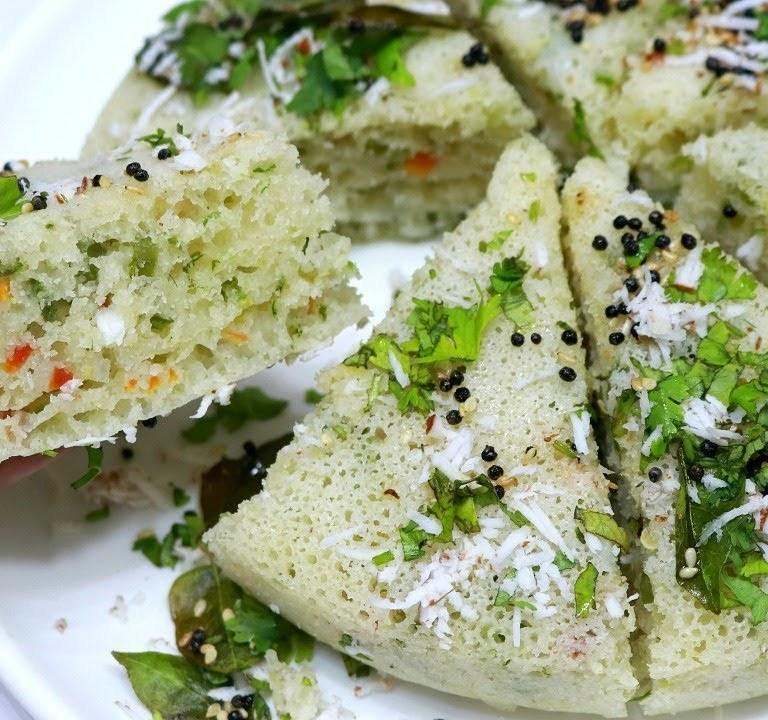dhokla: (2, 5, 768, 720)
